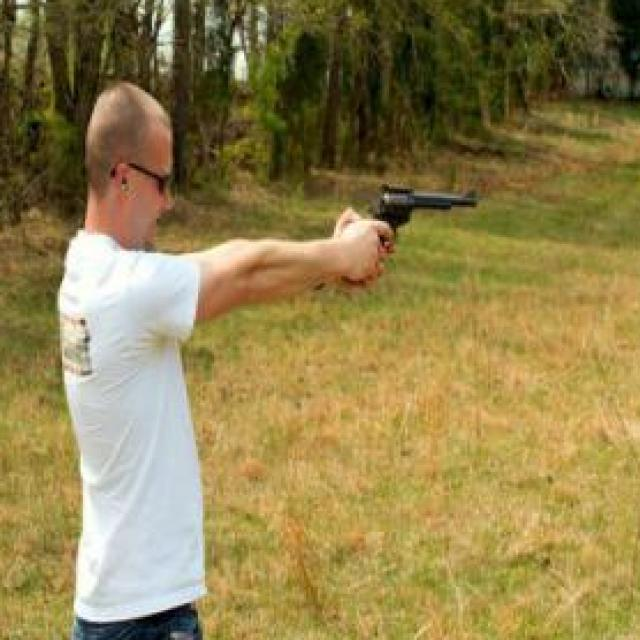pistol: (361, 182, 479, 250)
